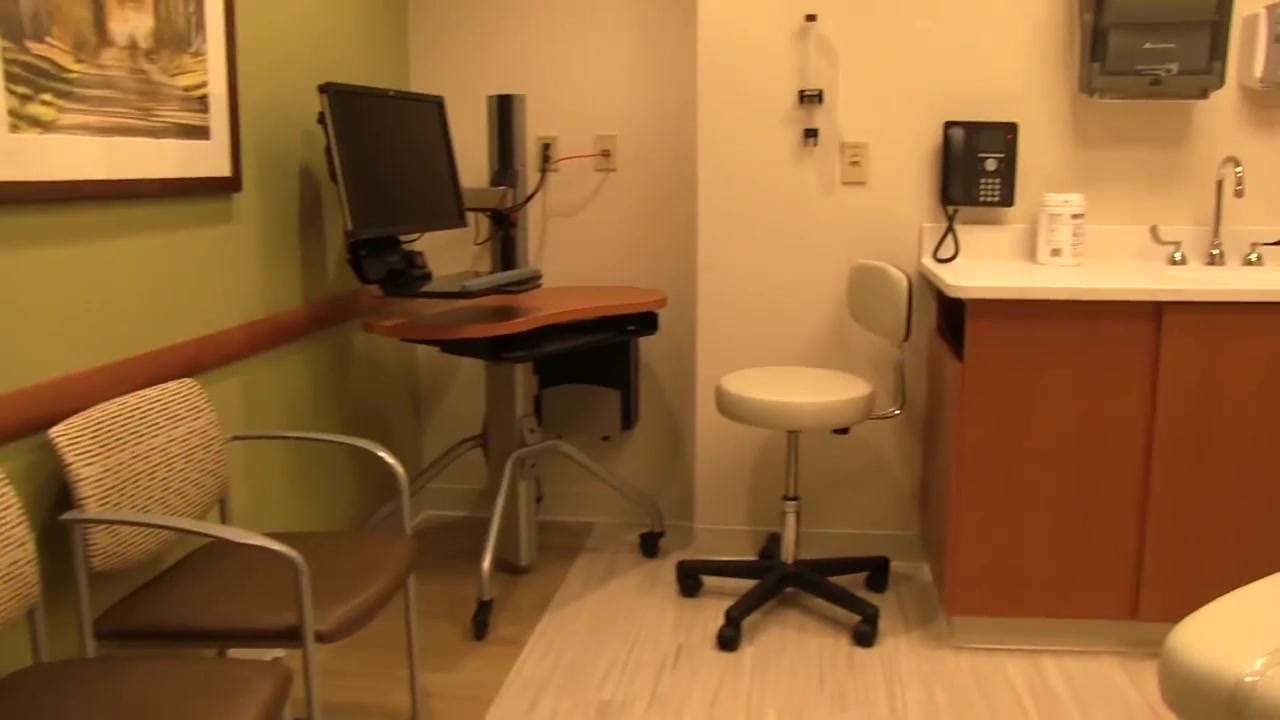chair: (44, 375, 422, 720), (676, 259, 913, 653), (1, 457, 320, 720)
computer: (315, 81, 469, 239)
counter: (925, 258, 1279, 644)
countertop: (921, 258, 1146, 300)
dispenser: (1071, 1, 1233, 98)
faucet: (1147, 155, 1280, 264)
sink: (1150, 255, 1280, 279)
table: (359, 286, 669, 642)
telephone: (929, 120, 1022, 265)
